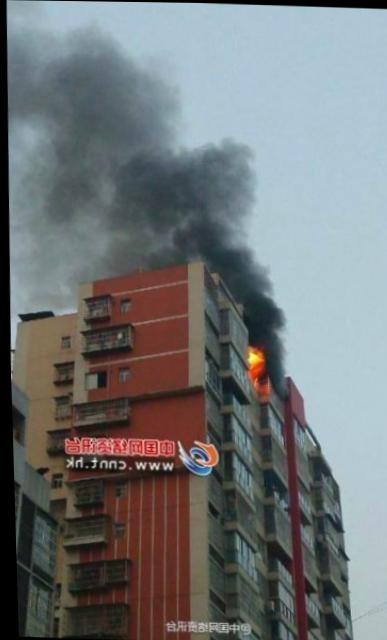fire: (242, 341, 267, 387)
